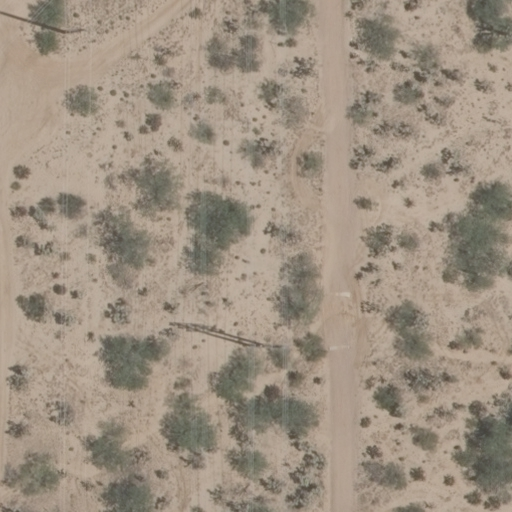TT: (247, 335, 292, 352)
